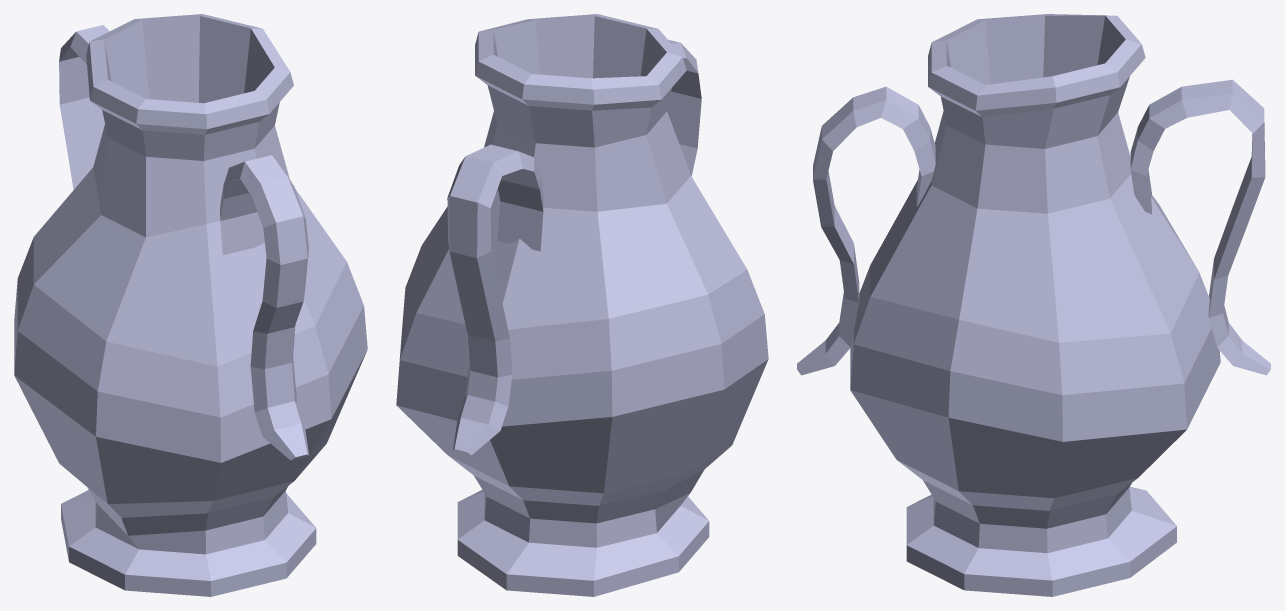
File: Jarron.fbx
3 views of the same model, side by side, from view 1: azimuth 30°, elevation 25°; view 2: azimuth 150°, elevation 25°; view 3: azimuth 270°, elevation 25° (orthographic). The views are drawn at different scales.
Visible parts, largest first — view 1: Cylinder, Cube; view 2: Cylinder, Cube; view 3: Cylinder, Cube.
Boxes of the visible parts, x1,y1,x2,y2 form: Cylinder: (14,14,367,596); Cube: (59,25,309,460); Cylinder: (396,14,768,596); Cube: (447,39,701,455); Cylinder: (850,14,1220,596); Cube: (797,79,1270,375).
Bounding box in the file's own units: 35 × 51.61 × 44.06.
